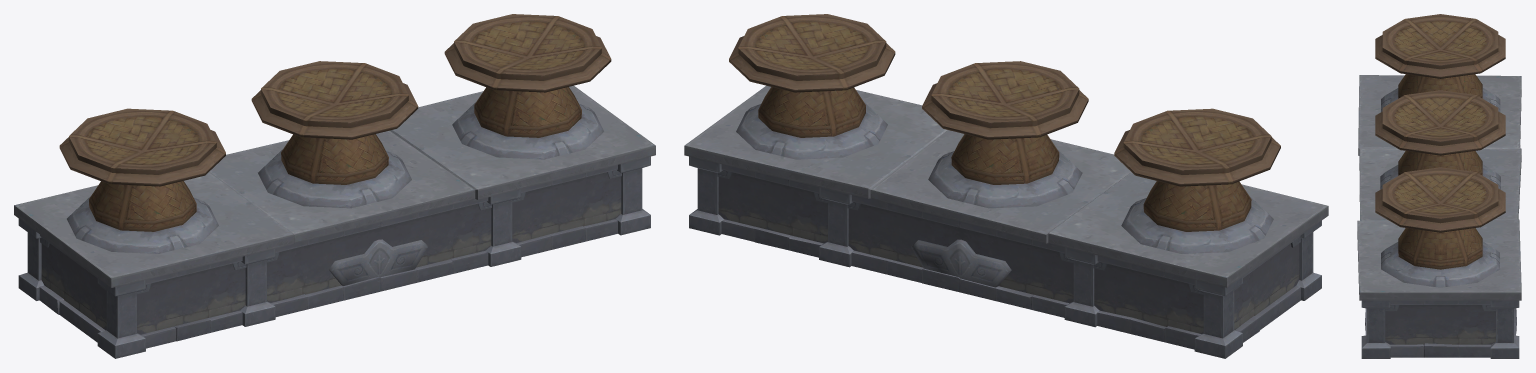
File: Homeworld_Interior_Cyg_Thing_Prop_Hongbeitai_01_Lod0.fbx
3 views of the same model, side by side, from view 1: azimuth 30°, elevation 25°; view 2: azimuth 150°, elevation 25°; view 3: azimuth 270°, elevation 25° (orthographic). The views are drawn at different scales.
Parts seen in each view (by area): view 1: Indoor_Cyg_Prop_QYZ_Hongbeitai_01_Lod0; view 2: Indoor_Cyg_Prop_QYZ_Hongbeitai_01_Lod0; view 3: Indoor_Cyg_Prop_QYZ_Hongbeitai_01_Lod0.
Part boxes in pixels (left/top/right/bottom): Indoor_Cyg_Prop_QYZ_Hongbeitai_01_Lod0: left=14, top=14, right=655, bottom=358; Indoor_Cyg_Prop_QYZ_Hongbeitai_01_Lod0: left=684, top=14, right=1328, bottom=358; Indoor_Cyg_Prop_QYZ_Hongbeitai_01_Lod0: left=1357, top=14, right=1521, bottom=358.
Bounding box in the file's own units: 4.93 × 1.44 × 1.58.
Materials: 1 (1 with a texture image).
